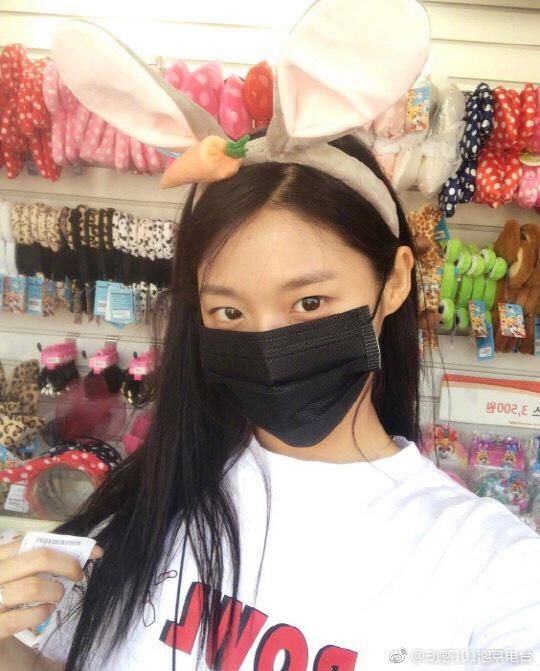OK: (197, 252, 371, 445)
